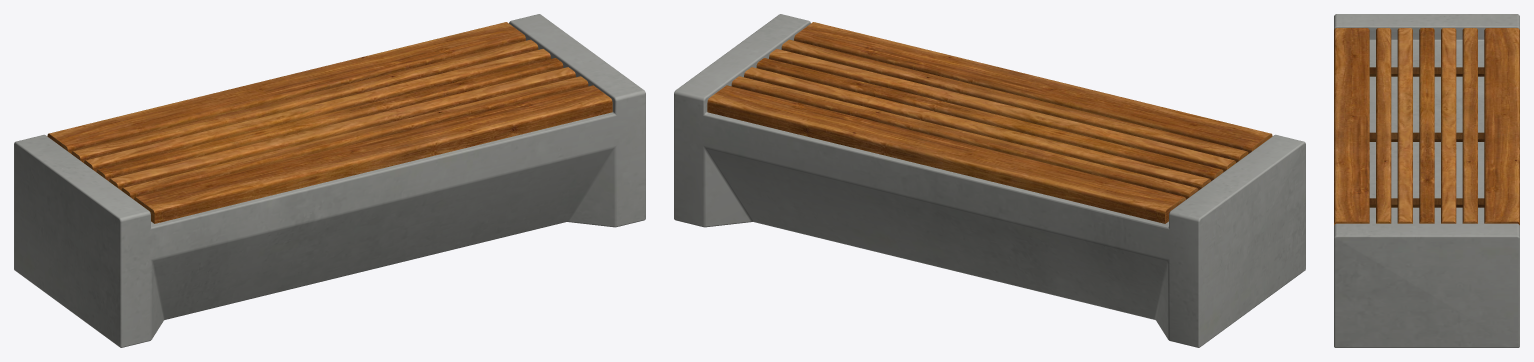
File: fixture-bench-modern.glb
The picture shows the model from 3 angles, left to right: view 1: azimuth 30°, elevation 25°; view 2: azimuth 150°, elevation 25°; view 3: azimuth 270°, elevation 25°; orthographic projection. The views are drawn at different scales.
Visible parts, largest first — view 1: concret_Material_002_0, wood_Material_0; view 2: concret_Material_002_0, wood_Material_0; view 3: concret_Material_002_0, wood_Material_0, wood2_Material_001_0.
Boxes of the visible parts, x1,y1,x2,y2 form: concret_Material_002_0: (14,14,645,347); wood_Material_0: (47,22,612,223); concret_Material_002_0: (674,14,1305,347); wood_Material_0: (707,22,1272,223); concret_Material_002_0: (1334,14,1519,347); wood_Material_0: (1334,28,1519,225); wood2_Material_001_0: (1369,67,1484,207).
Bounding box in the file's own units: 1.88 × 0.4417 × 0.6625.
3 materials, 3 textured.
